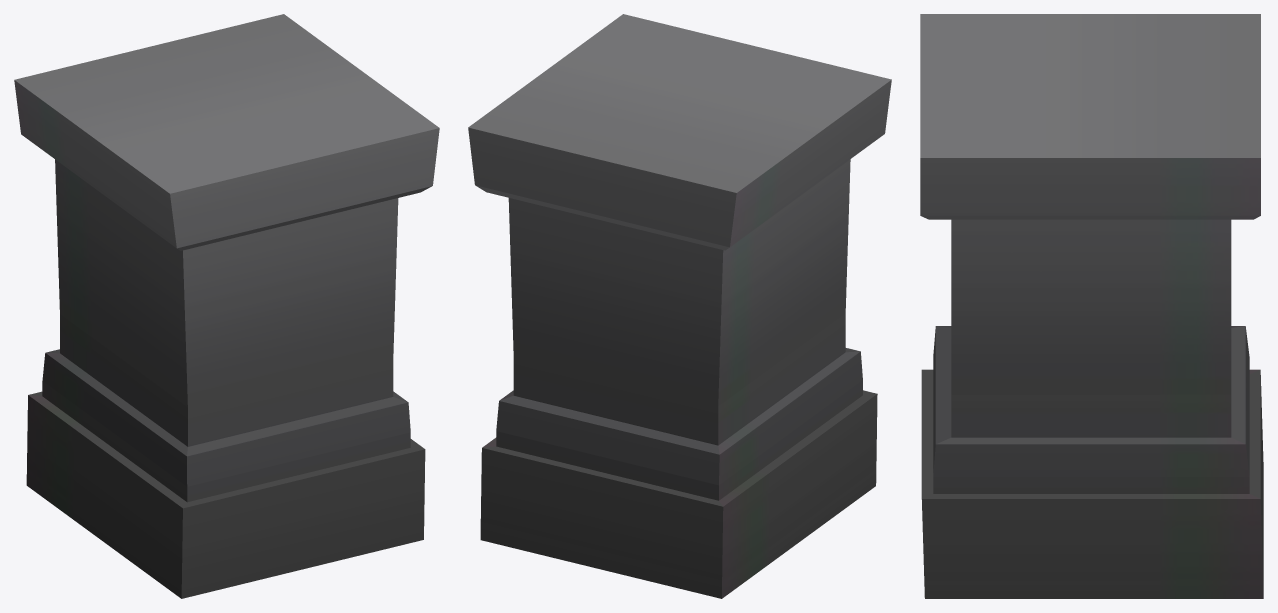
The model's file is Location.fbx.
3 views of the same model, side by side, from view 1: azimuth 30°, elevation 25°; view 2: azimuth 150°, elevation 25°; view 3: azimuth 270°, elevation 25° (orthographic). The views are drawn at different scales.
Visible parts, largest first — view 1: Cube; view 2: Cube; view 3: Cube.
Part boxes in pixels (x1,y1,x2,y2): Cube: (14, 14, 439, 598); Cube: (468, 14, 891, 598); Cube: (920, 14, 1263, 598).
Bounding box in the file's own units: 401 × 583 × 405.
